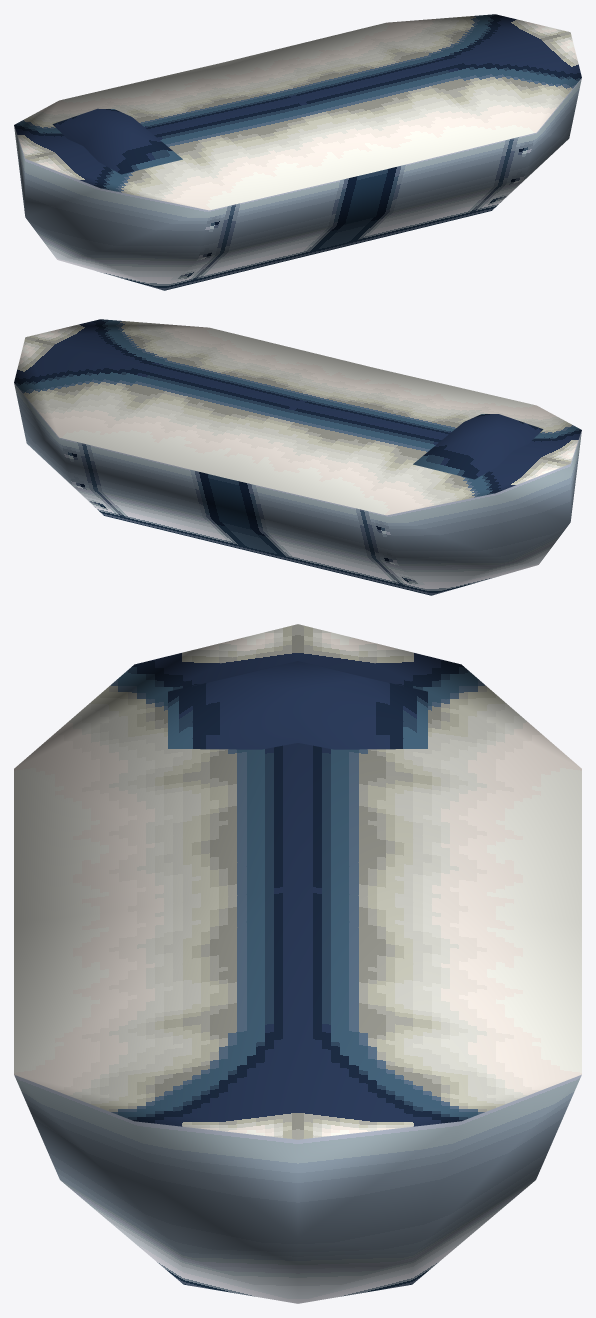
3 views of the same model, one above another, from view 1: azimuth 30°, elevation 25°; view 2: azimuth 150°, elevation 25°; view 3: azimuth 270°, elevation 25° (orthographic). The views are drawn at different scales.
Visible parts, largest first — view 1: 3297IMIG07_01; view 2: 3297IMIG07_01; view 3: 3297IMIG07_01.
Boxes of the visible parts, x1,y1,x2,y2 form: 3297IMIG07_01: [14, 14, 581, 290]; 3297IMIG07_01: [14, 319, 581, 595]; 3297IMIG07_01: [14, 624, 581, 1303].
Bounding box in the file's own units: 1.93 × 0.5149 × 0.9224.
2 materials, 2 textured.
